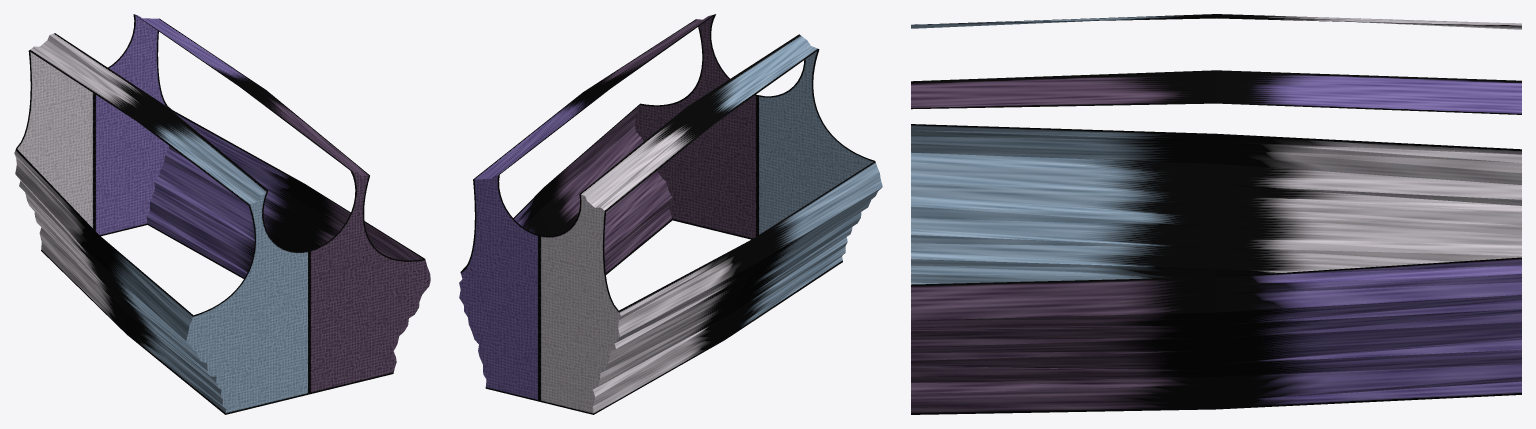
File: tank_knit4_s40_boxmesh.obj
3 renders of one model, left to right at view 1: azimuth 30°, elevation 25°; view 2: azimuth 150°, elevation 25°; view 3: azimuth 270°, elevation 25°, orthographic. The views are drawn at different scales.
Bounding box in the file's own units: 36.13 × 31.16 × 55.
Materials: 1 (1 with a texture image).
